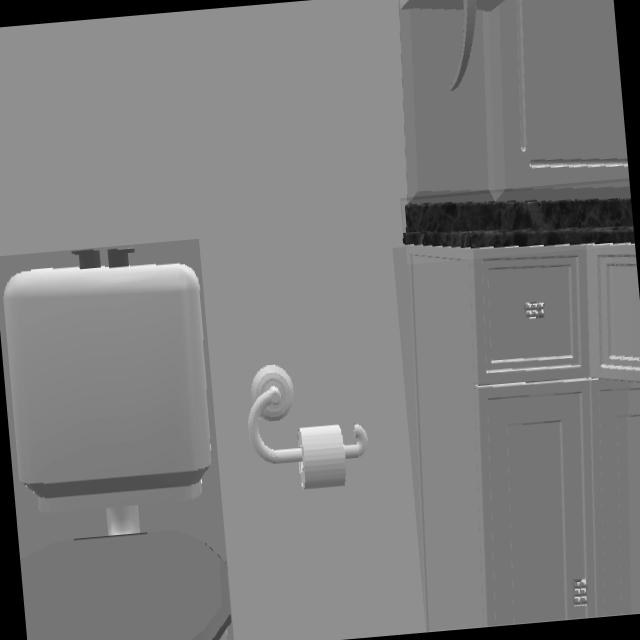cabinet: (408, 243, 640, 631)
toilet: (3, 249, 231, 640), (404, 194, 635, 249)
washbasin: (403, 191, 634, 251)
